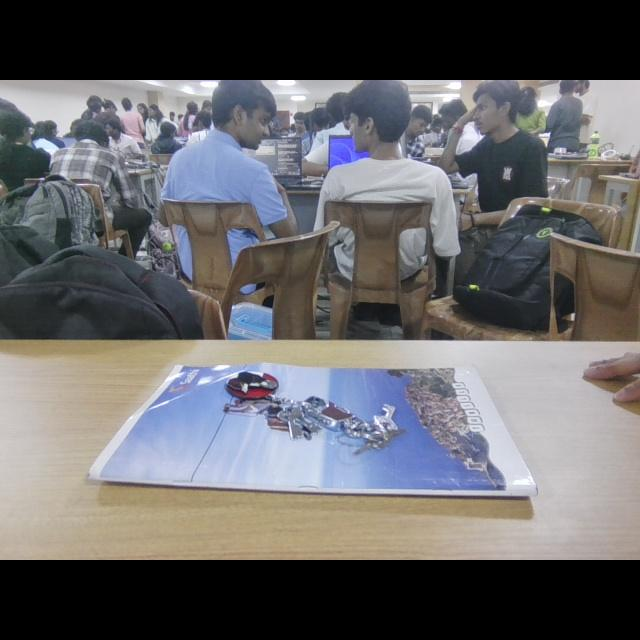keys: (222, 368, 414, 468)
